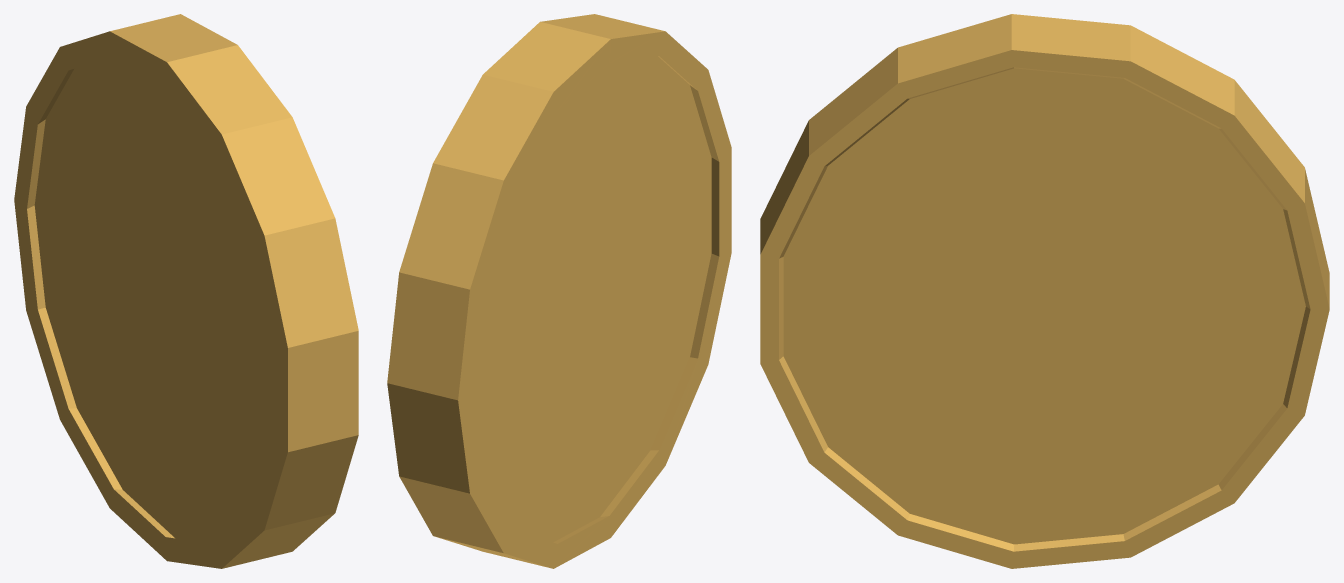
File: Gold.fbx
The picture shows the model from 3 angles, left to right: view 1: azimuth 30°, elevation 25°; view 2: azimuth 150°, elevation 25°; view 3: azimuth 270°, elevation 25°; orthographic projection. The views are drawn at different scales.
Parts seen in each view (by area): view 1: Цилиндр; view 2: Цилиндр; view 3: Цилиндр.
Part boxes in pixels (left/top/right/bottom): Цилиндр: left=14, top=14, right=358, bottom=568; Цилиндр: left=387, top=14, right=731, bottom=568; Цилиндр: left=760, top=14, right=1329, bottom=568.
Size of the model in its own units: 29.58 by 199 by 198.
